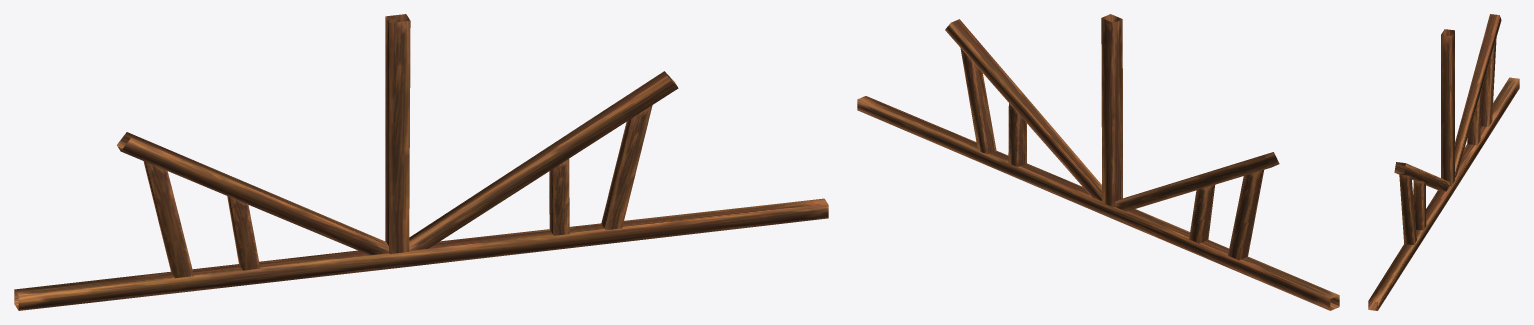
Rendered from SWORDLIGHT20_JAILCEILBRACKET19.fbx.
3 views of the same model, side by side, from view 1: azimuth 30°, elevation 25°; view 2: azimuth 150°, elevation 25°; view 3: azimuth 270°, elevation 25° (orthographic). The views are drawn at different scales.
Parts seen in each view (by area): view 1: SWORDLIGHT20_JAILCEILBRACKET19; view 2: SWORDLIGHT20_JAILCEILBRACKET19; view 3: SWORDLIGHT20_JAILCEILBRACKET19.
Boxes of the visible parts, x1,y1,x2,y2 form: SWORDLIGHT20_JAILCEILBRACKET19: (14, 14, 828, 310); SWORDLIGHT20_JAILCEILBRACKET19: (857, 14, 1339, 310); SWORDLIGHT20_JAILCEILBRACKET19: (1368, 14, 1519, 310).
Bounding box in the file's own units: 148981 × 49666 × 42506.
1 material, 1 textured.
